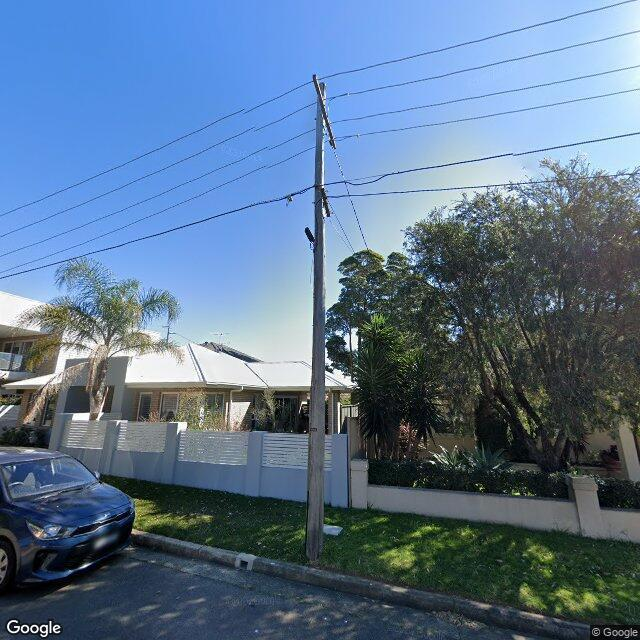crossarm: (312, 72, 336, 148)
timber-pole: (303, 80, 328, 558)
